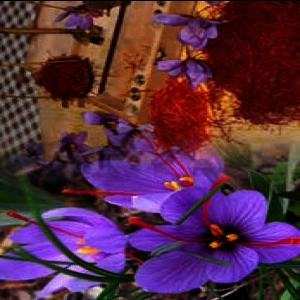Saffron: (134, 186, 292, 292), (0, 207, 129, 298), (81, 153, 224, 214), (154, 10, 222, 44), (156, 56, 212, 86), (80, 106, 128, 136), (54, 4, 99, 28)
